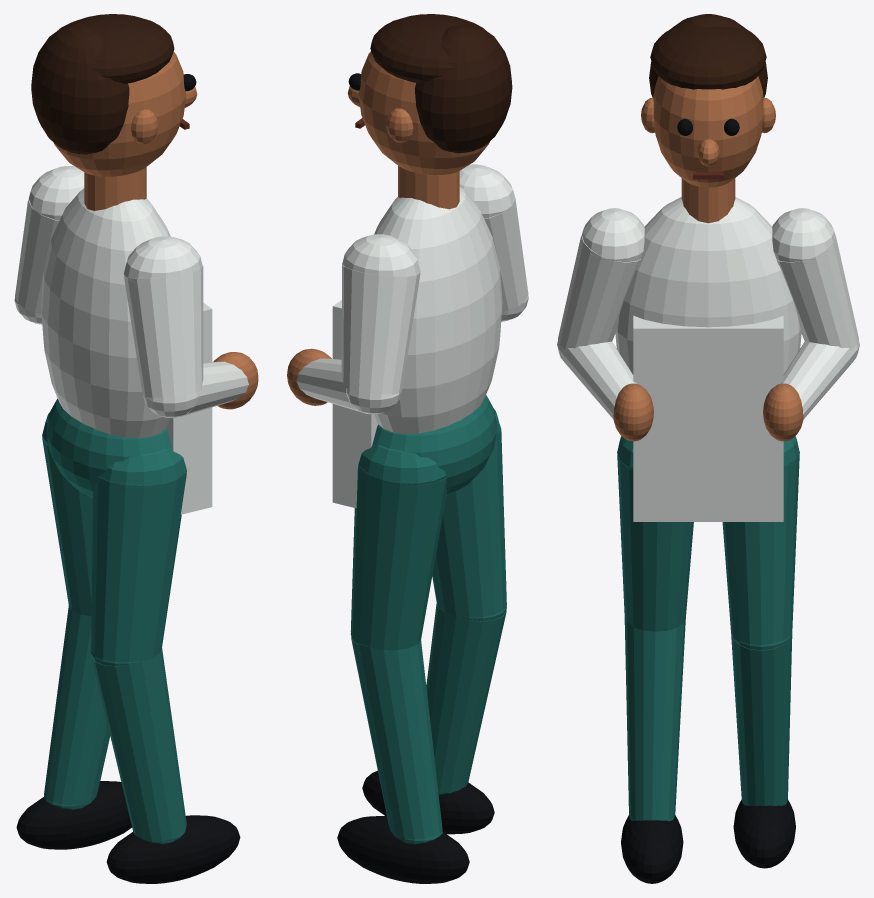
The model's file is person_12.dae.
3 views of the same model, side by side, from view 1: azimuth 30°, elevation 25°; view 2: azimuth 150°, elevation 25°; view 3: azimuth 270°, elevation 25° (orthographic). The views are drawn at different scales.
Parts seen in each view (by area): view 1: part0node, part2node, part4node, part1node, part3node; view 2: part0node, part2node, part4node, part3node, part1node; view 3: part2node, part0node, part3node, part4node, part1node.
Boxes of the visible parts, box(x1,y1,x2,y2) form: part0node: box(42, 398, 186, 843); part2node: box(14, 166, 248, 514); part4node: box(31, 14, 174, 154); part1node: box(16, 74, 240, 883); part3node: box(54, 52, 258, 409); part0node: box(350, 395, 506, 844); part2node: box(296, 164, 528, 508); part4node: box(370, 14, 512, 153); part3node: box(287, 51, 489, 405); part1node: box(337, 73, 494, 883); part2node: box(557, 197, 859, 521); part0node: box(617, 436, 799, 820); part3node: box(613, 76, 803, 441); part4node: box(649, 14, 767, 97); part1node: box(621, 118, 795, 883).
Bounding box in the file's own units: 0.033 × 0.05 × 0.15.
